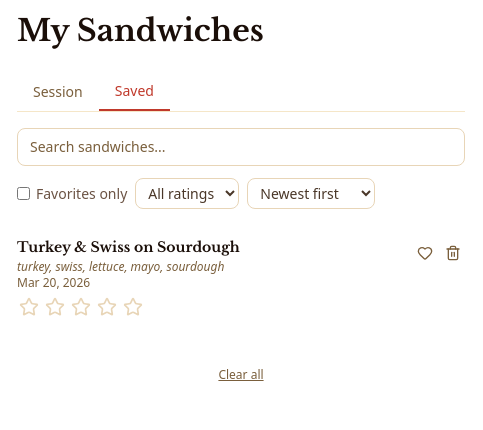
Test: HistoryPage › search › shows result count after searching
Type "turkey" into the search field at (241, 147), box [17, 128, 465, 166]
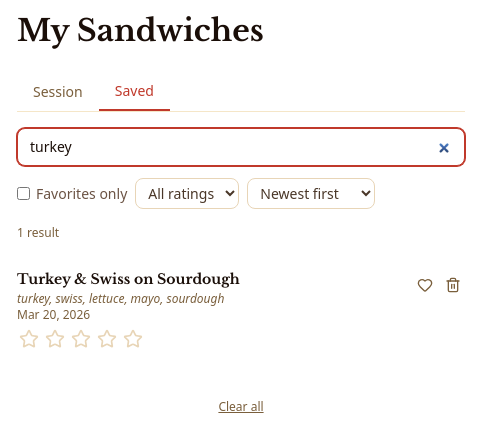
Check: the text "1 result" is shown, box [17, 224, 59, 241]
